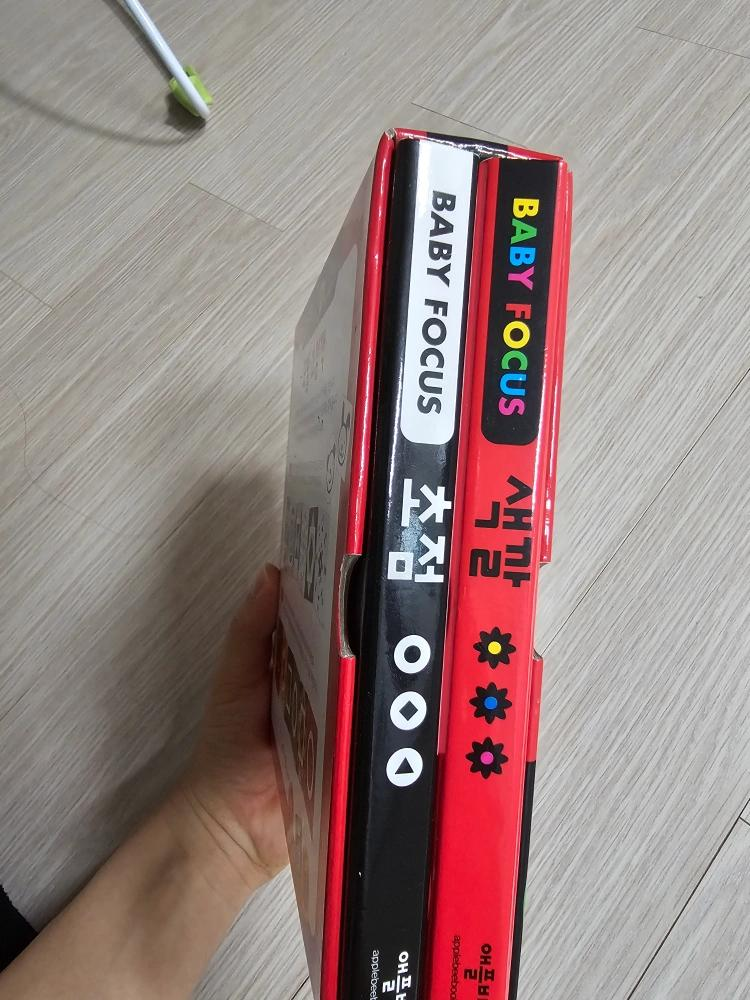book: (268, 125, 572, 999)
